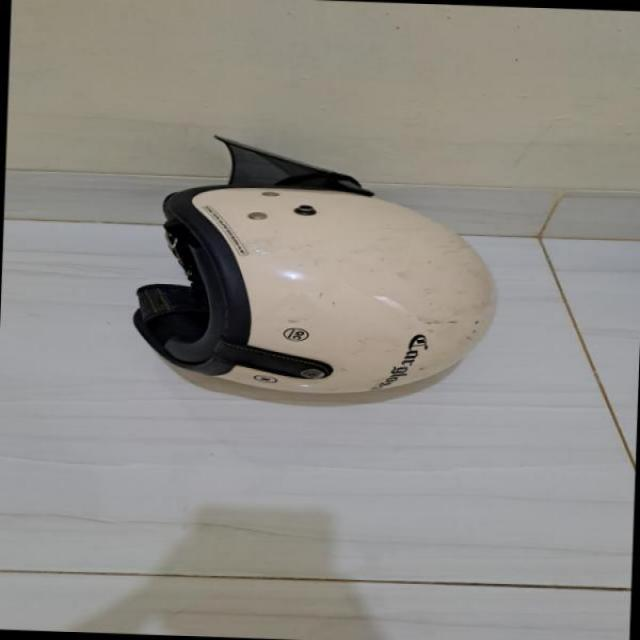Helmet: (113, 146, 502, 438)
